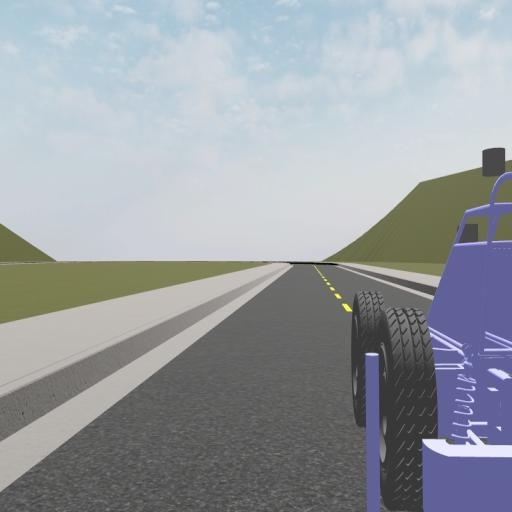ERP-42: (351, 147, 512, 511)
